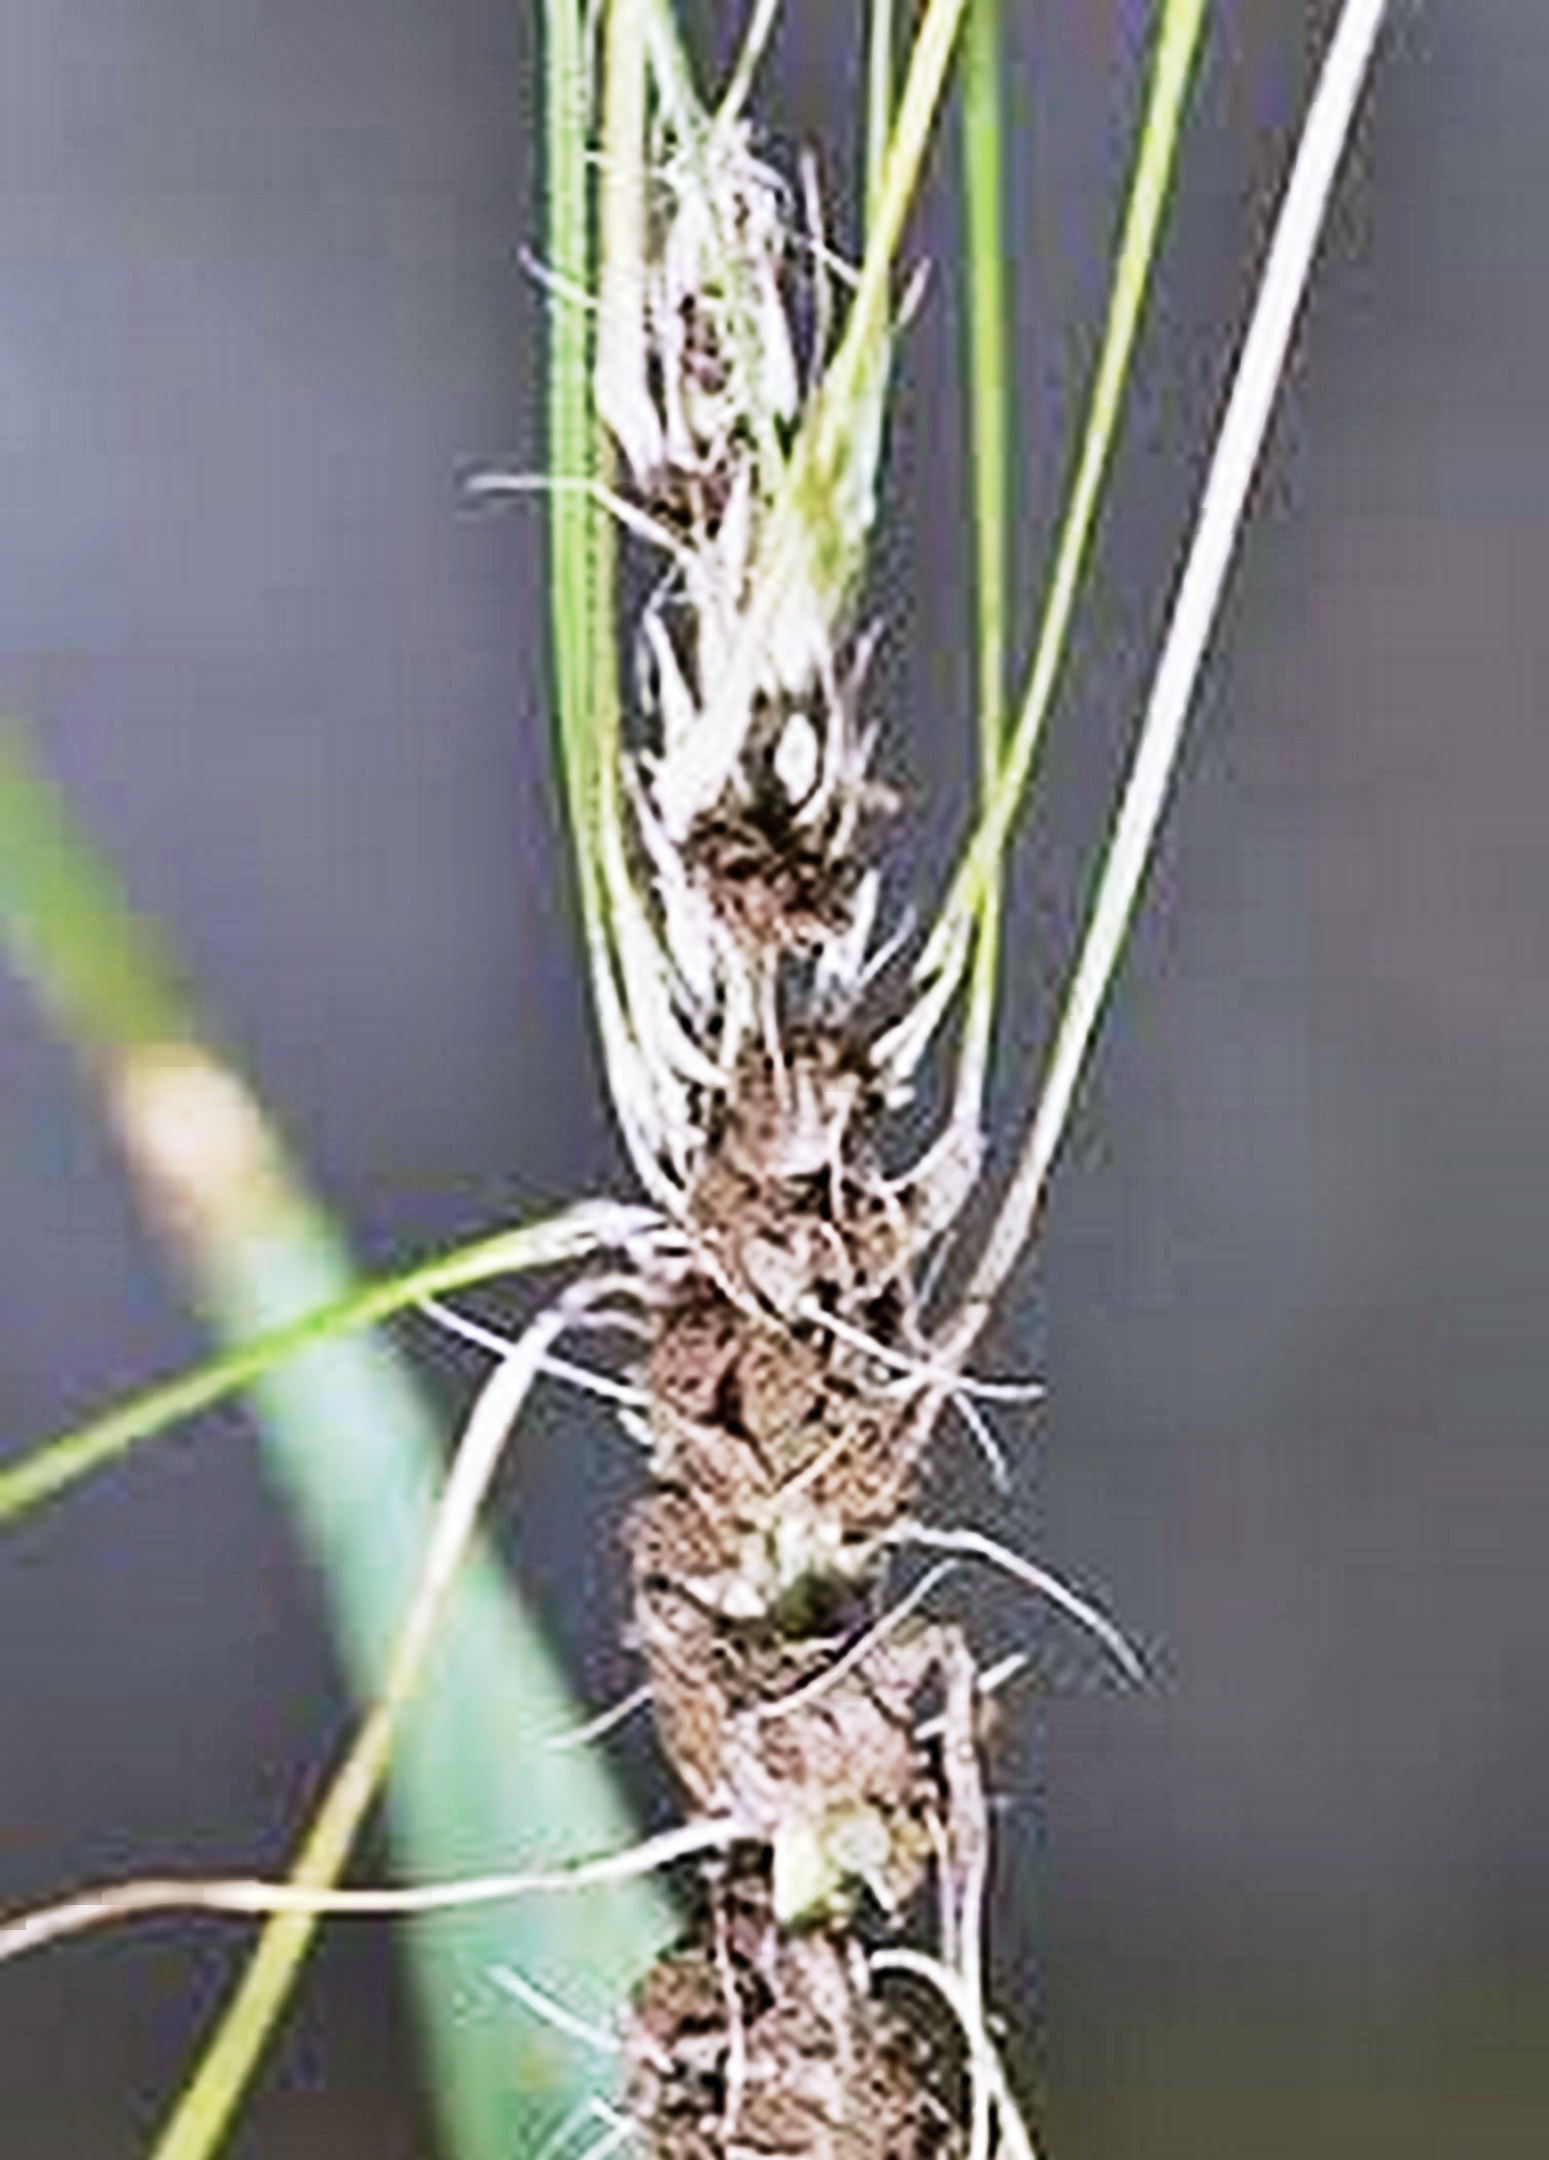Wheat Loose Smut: (538, 870, 1061, 2157)
